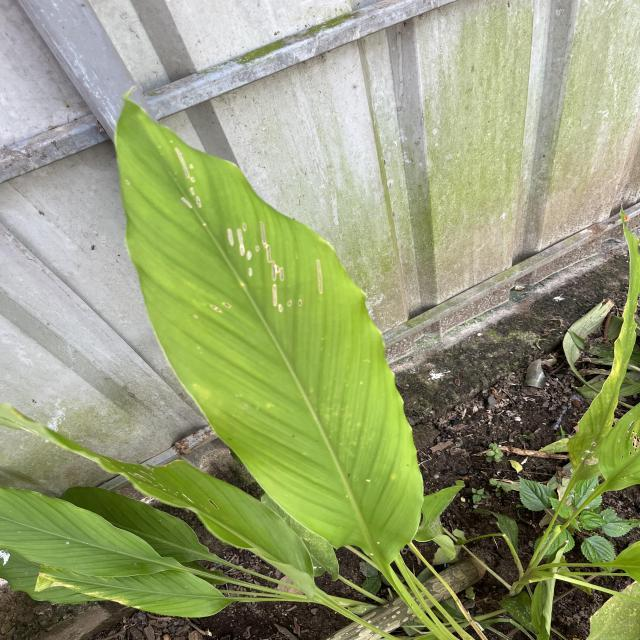Curcuma longa: (109, 86, 429, 578)
